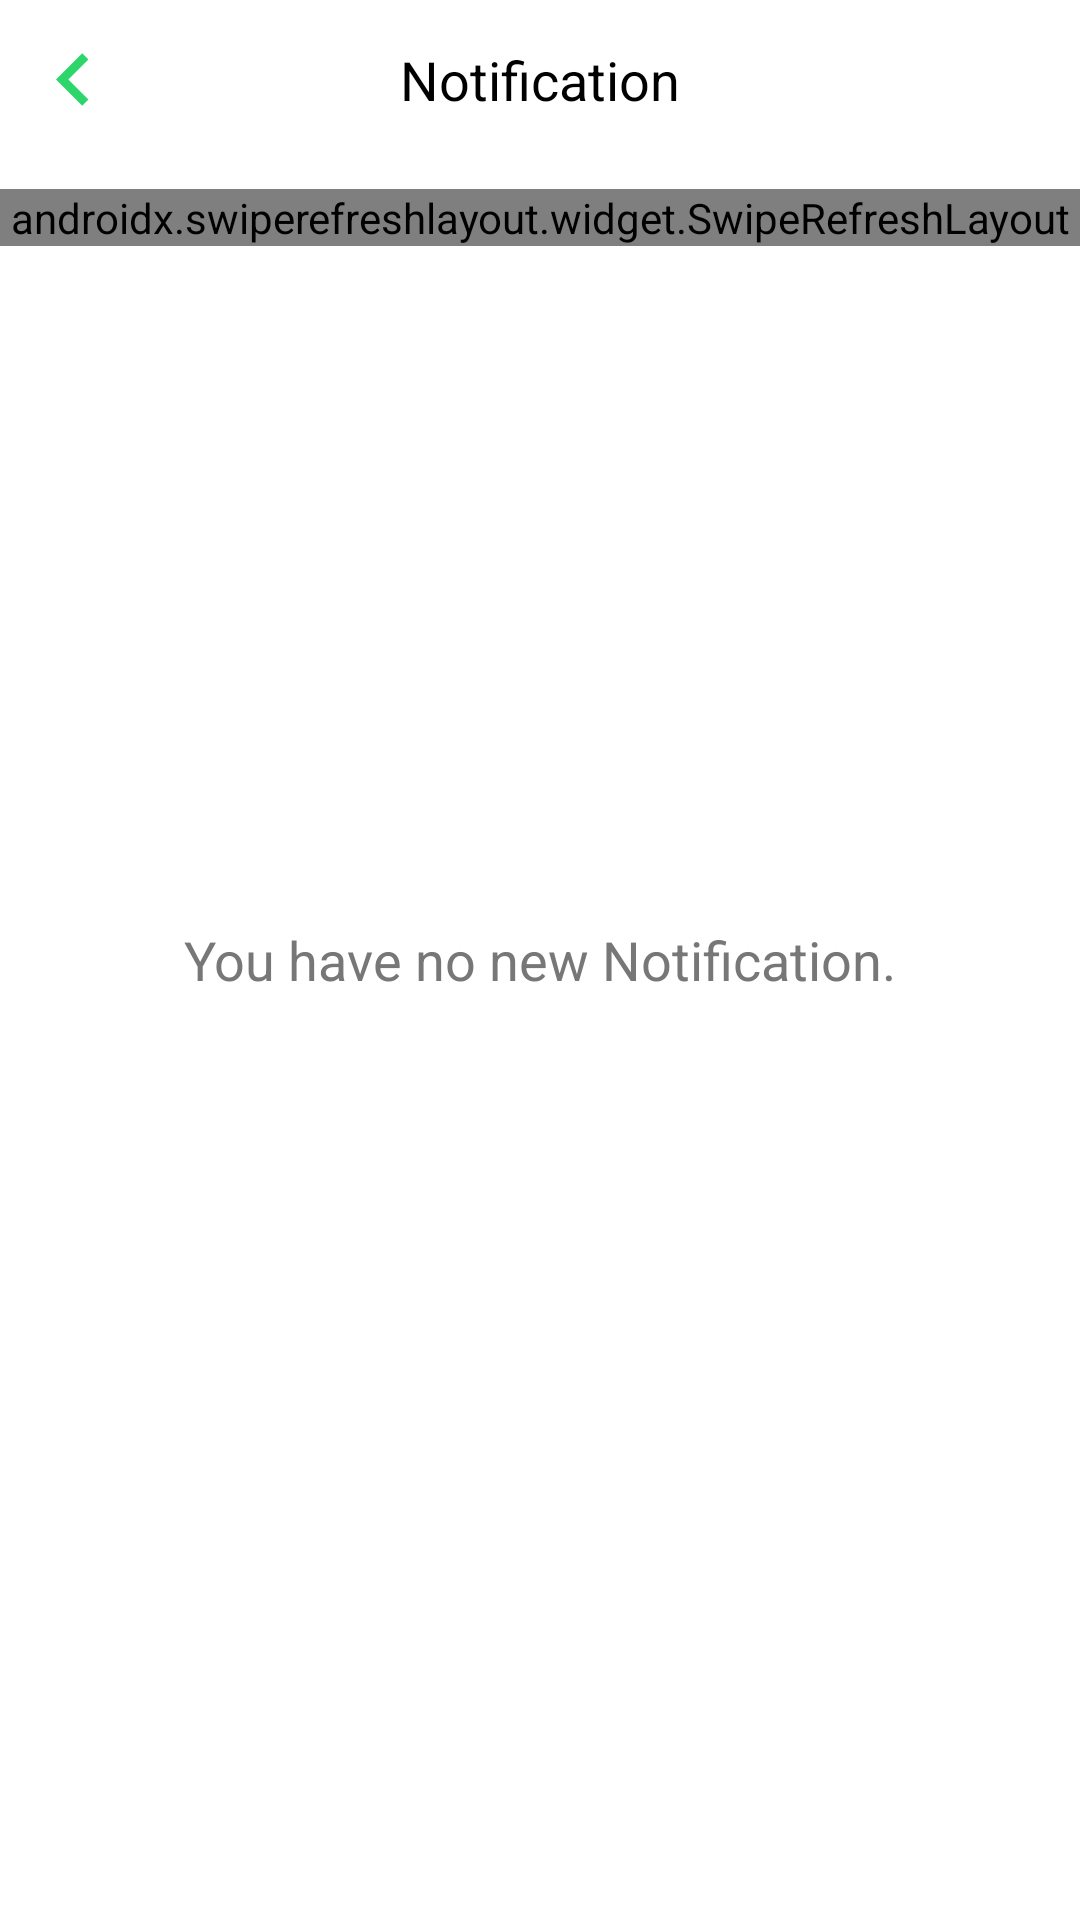

Named icons in this screenshot (1080w x 1920h) and their bounding boxes, box(x1, y1, x2, y2):
keyboard arrow left: box(56, 53, 89, 106)
